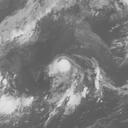cyclone: (45, 54, 105, 104)
